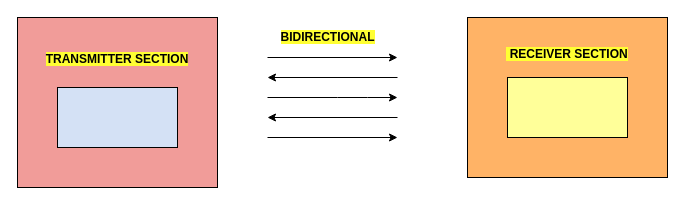
Image size: 685x205. Some labels were removed from this diagram. Each missing label, with the centre of its shape:
BODY CONTROL UNIT: (567,107)
RKE FOB: (117,117)
